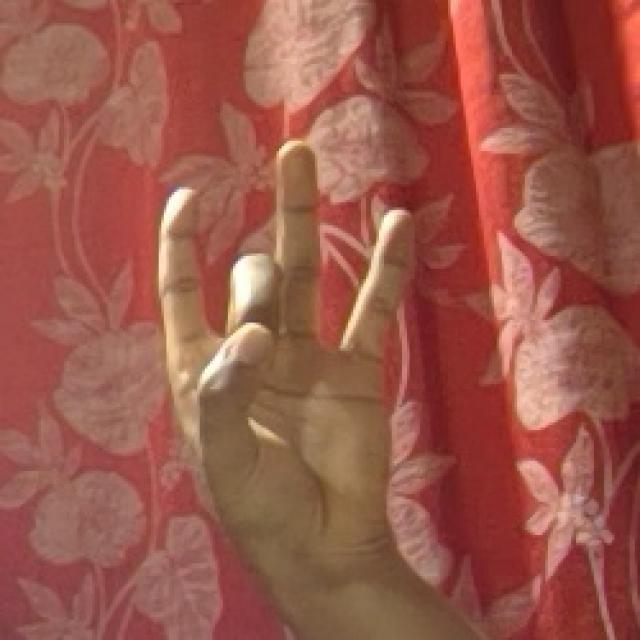Numeric-8: (153, 135, 409, 574)
